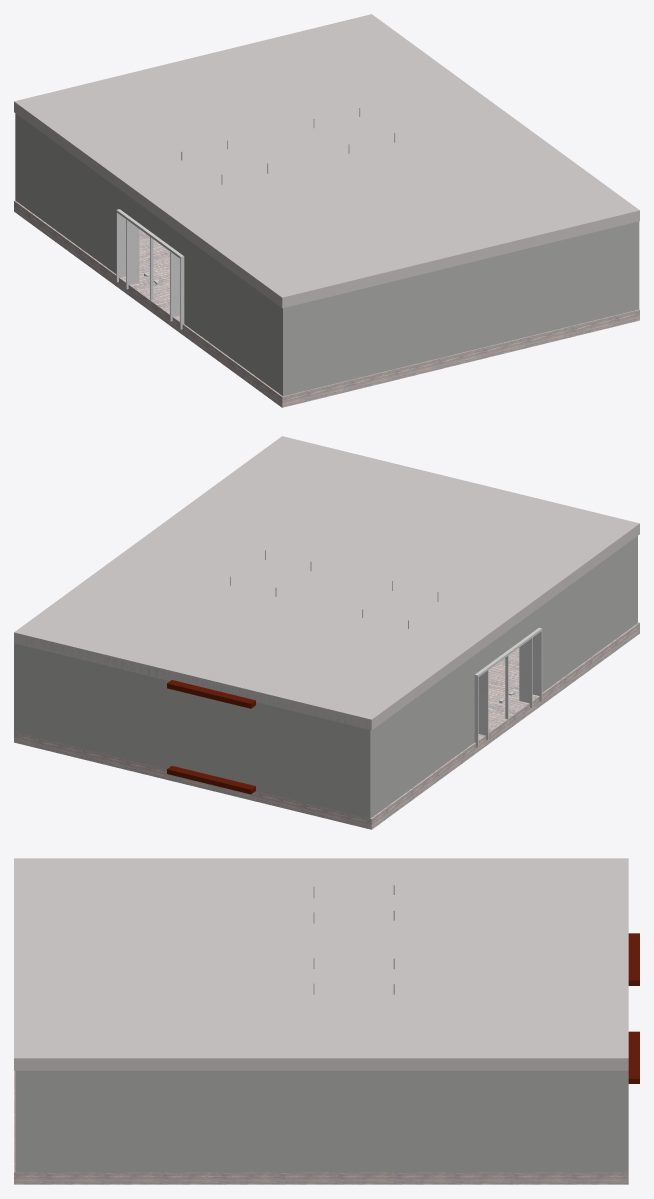
The model's file is tiendaT.obj.
The picture shows the model from 3 angles, top to bottom: view 1: azimuth 30°, elevation 25°; view 2: azimuth 150°, elevation 25°; view 3: azimuth 270°, elevation 25°; orthographic projection. The views are drawn at different scales.
Visible parts, largest first — view 1: Base1, Part4, Base2, Part2, Part3, Part1, Part84, Part85, Part80; view 2: Base1, Part87, Part3, Base2, Part2, Part1, Part5, Part39, Part38, Part80, Part78, Part84; view 3: Base1, Part5, Base2, Part39, Part38.
Boxes of the visible parts, <box> form: Base1: <box>14,14,639,308</box>; Part4: <box>283,222,636,395</box>; Base2: <box>14,200,639,407</box>; Part2: <box>184,237,288,396</box>; Part3: <box>15,113,119,273</box>; Part1: <box>119,190,184,255</box>; Part84: <box>126,219,139,289</box>; Part85: <box>116,209,125,282</box>; Part80: <box>170,251,179,321</box>; Base1: <box>14,436,639,730</box>; Part87: <box>16,635,373,817</box>; Part3: <box>364,655,474,818</box>; Base2: <box>14,622,639,829</box>; Part2: <box>539,536,637,692</box>; Part1: <box>474,608,538,674</box>; Part5: <box>14,643,25,734</box>; Part39: <box>167,680,255,708</box>; Part38: <box>167,766,255,794</box>; Part80: <box>519,637,532,707</box>; Part78: <box>532,627,542,701</box>; Part84: <box>478,670,488,739</box>; Base1: <box>14,858,628,1070</box>; Part5: <box>15,1070,628,1172</box>; Base2: <box>14,1070,628,1184</box>; Part39: <box>628,933,639,985</box>; Part38: <box>628,1031,639,1083</box>.
Bounding box in the file's own units: 65.23 × 20.82 × 85.75.
